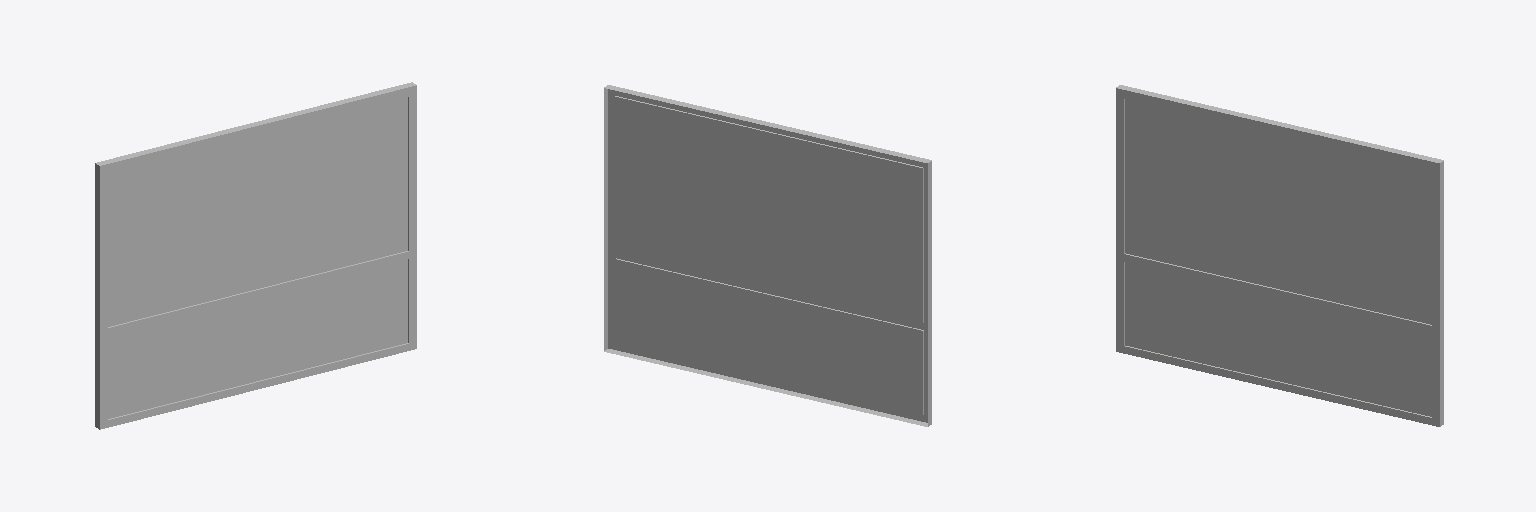
The model's file is scaledcorkboard.obj.
3 views of the same model, side by side, from view 1: azimuth 30°, elevation 25°; view 2: azimuth 150°, elevation 25°; view 3: azimuth 330°, elevation 25° (orthographic).
Parts seen in each view (by area): view 1: corkboard_polySurface2 pCylinder2 polySurface5 polySurface7 poly; view 2: corkboard_polySurface2 pCylinder2 polySurface5 polySurface7 poly; view 3: corkboard_polySurface2 pCylinder2 polySurface5 polySurface7 poly.
Boxes of the visible parts, x1=… form: corkboard_polySurface2 pCylinder2 polySurface5 polySurface7 poly: x1=95, y1=82, x2=416, y2=429; corkboard_polySurface2 pCylinder2 polySurface5 polySurface7 poly: x1=604, y1=85, x2=931, y2=426; corkboard_polySurface2 pCylinder2 polySurface5 polySurface7 poly: x1=1116, y1=85, x2=1443, y2=426.
Size of the model in its own units: 121 by 94.74 by 5.2.